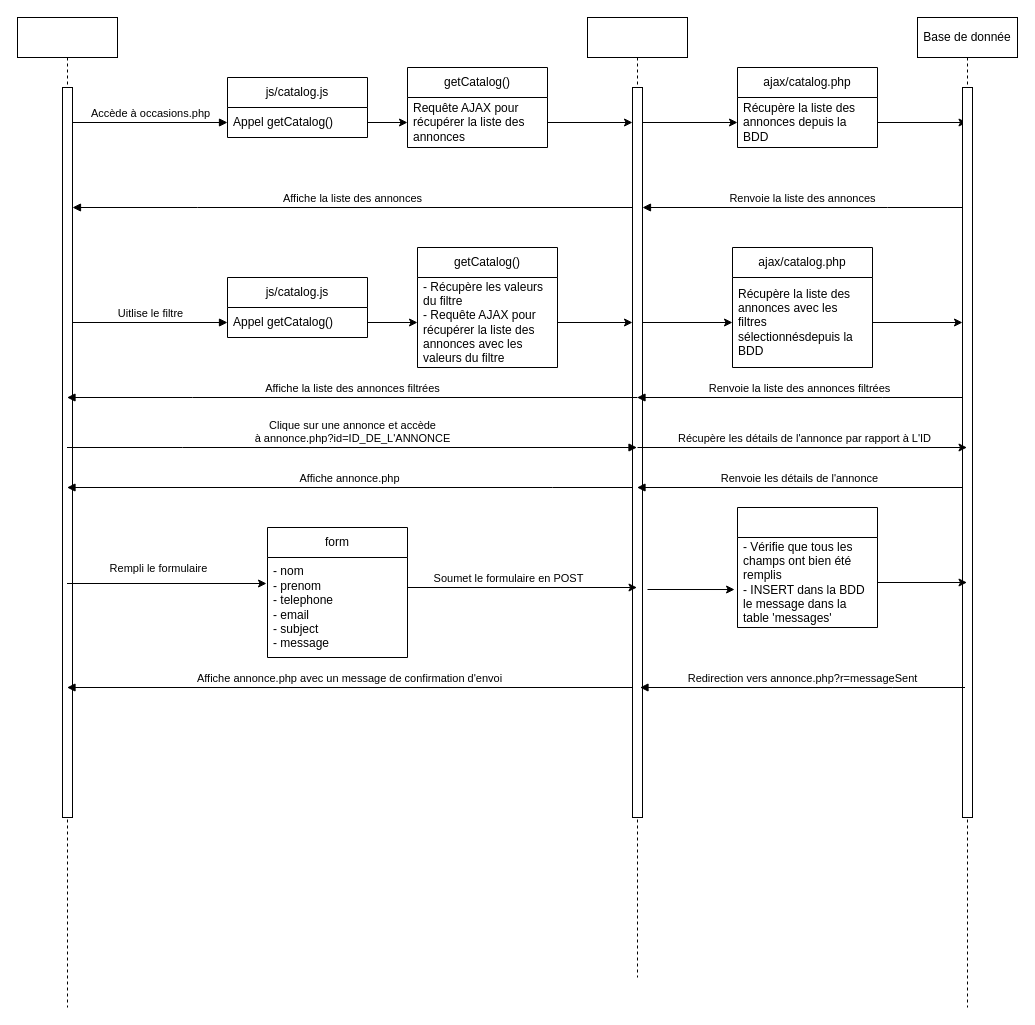
Image size: 1035x1025. Some labels were removed from this diagram. The shapes that lost their labels are listed below. From the top down, each one's box as (x1, y1, x2, y2) in pixels, then its label:
(16, 16, 118, 1008): Utilisateur
(586, 16, 688, 978): Site
(736, 506, 878, 628): actions/messages.php
